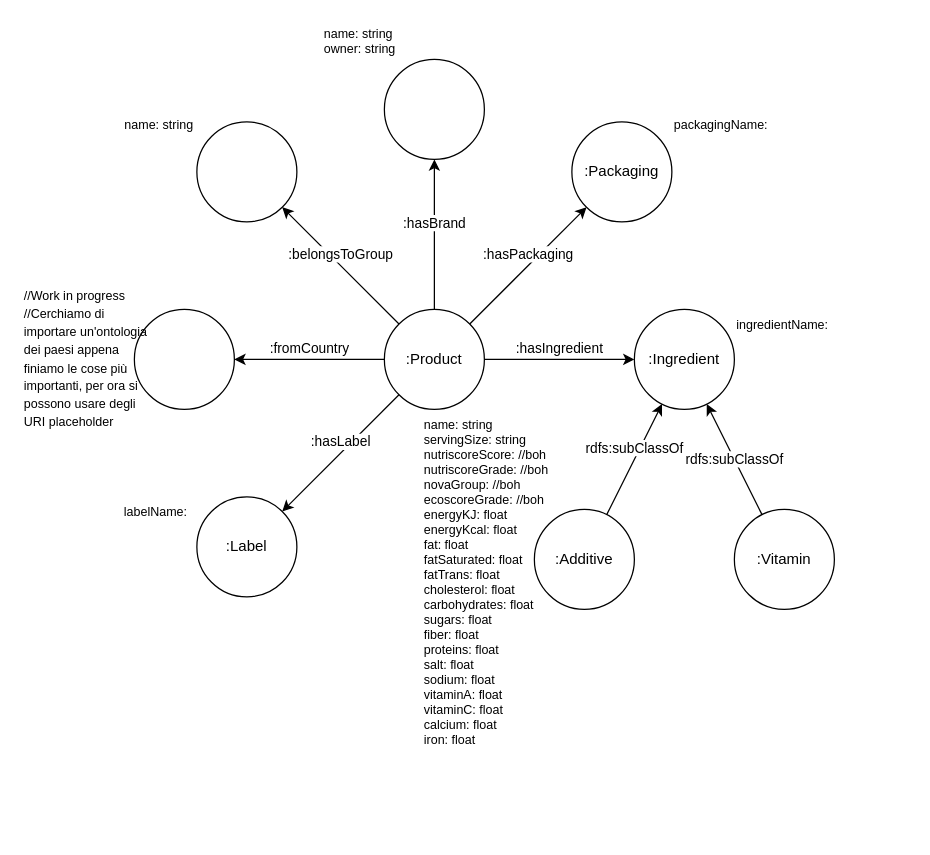
Image size: 930x855. Some labels were removed from this diagram. The centre of each missing label's shape, as x and y in pixels:
:Brand: the point at 433,108
:Country: the point at 183,358
:FoodGroup: the point at 246,171
